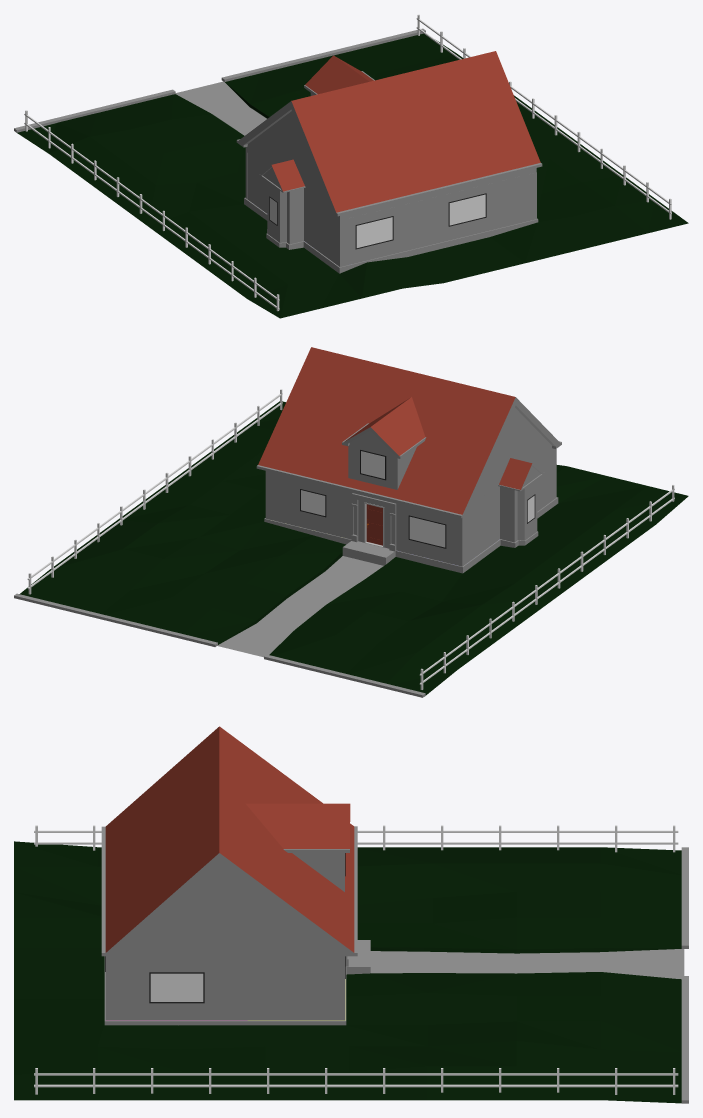
Rendered from house2new.FBX.
The picture shows the model from 3 angles, top to bottom: view 1: azimuth 30°, elevation 25°; view 2: azimuth 150°, elevation 25°; view 3: azimuth 270°, elevation 25°; orthographic projection. The views are drawn at different scales.
Parts seen in each view (by area): view 1: GardenSurface, Roof, SouthWall, ToiletRoof, FenceEast, HouseBase, FenceWest, Ceiling, SouthEastWall, ToiletWall, AtticRoof, CurbWest (+5 smaller); view 2: GardenSurface, Roof, FacadeWall, ToiletRoof, HouseBase, FenceWest, FenceEast, AtticRoof, NorthEastWall, ToiletWall, AtticFacade, CurbWest (+7 smaller); view 3: GardenSurface, Roof, WestWall, WestGable, FenceWest, AtticRoof, FenceEast, Ceiling, HouseBase, WindowPane001, CurbWest, AtticWallWest (+3 smaller).
Boxes of the visible parts, x1=… form: GardenSurface: x1=17, y1=33, x2=688, y2=318; Roof: x1=238, y1=51, x2=540, y2=212; SouthWall: x1=339, y1=172, x2=536, y2=266; ToiletRoof: x1=248, y1=111, x2=328, y2=203; FenceEast: x1=24, y1=110, x2=279, y2=311; HouseBase: x1=244, y1=197, x2=538, y2=273; FenceWest: x1=416, y1=14, x2=671, y2=219; Ceiling: x1=245, y1=144, x2=536, y2=220; SouthEastWall: x1=304, y1=194, x2=338, y2=265; ToiletWall: x1=267, y1=187, x2=303, y2=244; AtticRoof: x1=305, y1=55, x2=373, y2=94; CurbWest: x1=221, y1=28, x2=425, y2=82; GardenSurface: x1=19, y1=401, x2=688, y2=695; Roof: x1=258, y1=347, x2=560, y2=514; FacadeWall: x1=266, y1=472, x2=464, y2=566; ToiletRoof: x1=471, y1=407, x2=551, y2=504; HouseBase: x1=264, y1=497, x2=558, y2=573; FenceWest: x1=27, y1=389, x2=282, y2=594; FenceEast: x1=419, y1=485, x2=674, y2=689; AtticRoof: x1=343, y1=397, x2=425, y2=455; NorthEastWall: x1=464, y1=492, x2=499, y2=564; ToiletWall: x1=500, y1=485, x2=537, y2=542; AtticFacade: x1=348, y1=431, x2=399, y2=488; CurbWest: x1=14, y1=593, x2=217, y2=646; GardenSurface: x1=14, y1=841, x2=684, y2=1103; Roof: x1=105, y1=726, x2=354, y2=952; WestWall: x1=105, y1=961, x2=344, y2=1020; WestGable: x1=121, y1=863, x2=336, y2=950; FenceWest: x1=34, y1=1068, x2=678, y2=1094; AtticRoof: x1=246, y1=803, x2=350, y2=848; FenceEast: x1=34, y1=825, x2=678, y2=852; Ceiling: x1=105, y1=950, x2=344, y2=961; HouseBase: x1=104, y1=940, x2=370, y2=1025; WindowPane001: x1=150, y1=973, x2=203, y2=1001; CurbWest: x1=681, y1=976, x2=688, y2=1103; AtticWallWest: x1=292, y1=853, x2=340, y2=888.
Size of the model in its own units: 2502 by 2819 by 836.
